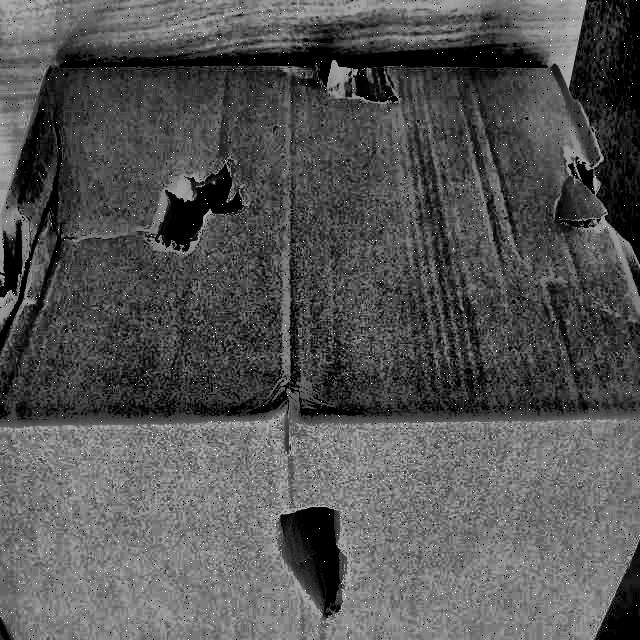box: (0, 38, 639, 640)
hole: (143, 140, 243, 260), (273, 497, 357, 619), (557, 151, 611, 237), (314, 59, 400, 111)
